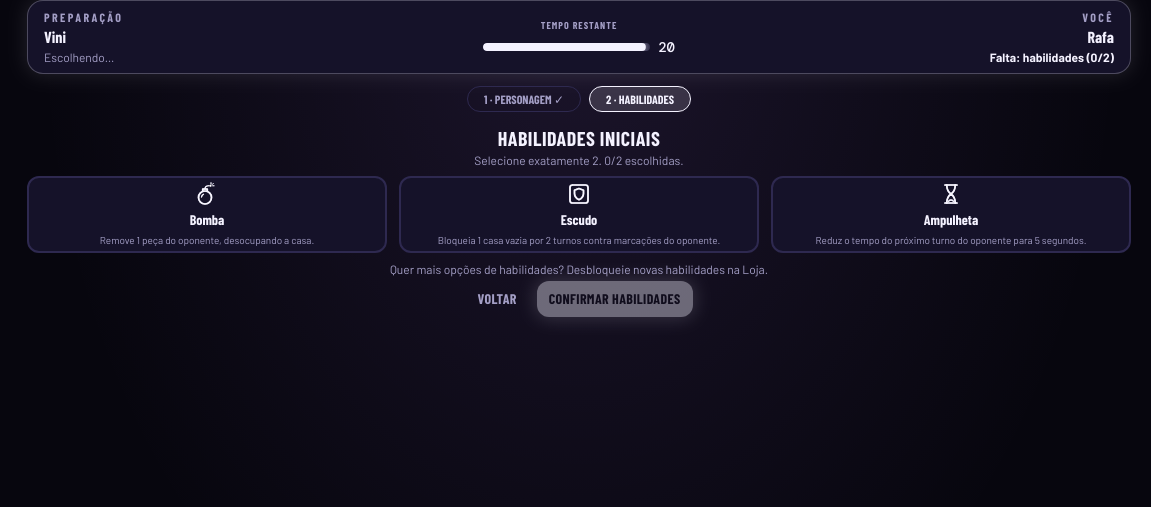
Test case: Preparação: guiar o jogador pelas 2 etapas › o seu status diz o que falta
Expected: the text "Falta: habilidades (0/2)" is shown, [990,50,1114,64]
Click the button with aria-label "Bomba.": (207, 214) [27,176,387,252]
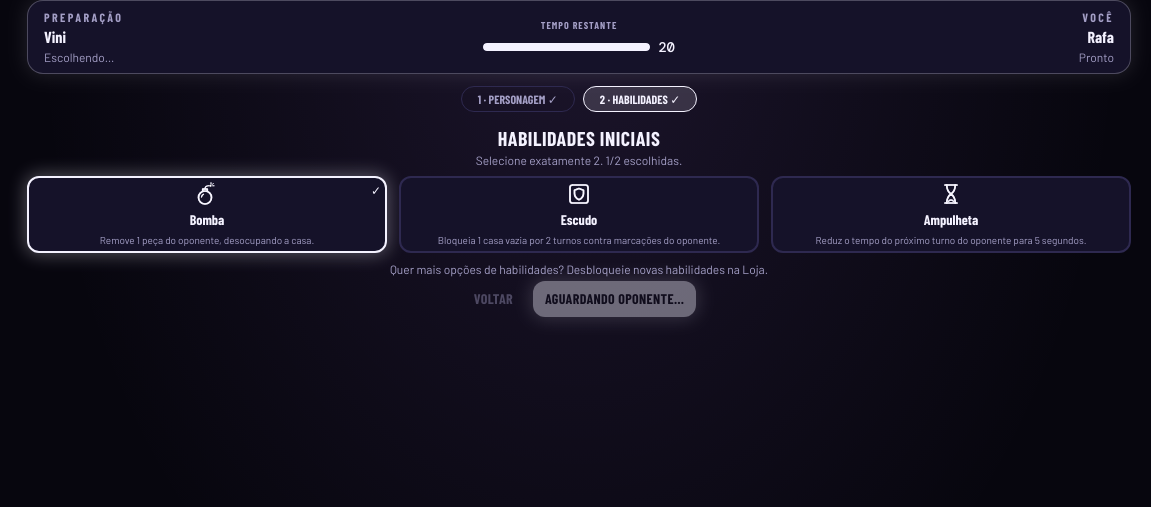
Result: the text "Pronto" is shown at [1079,50,1114,64]
